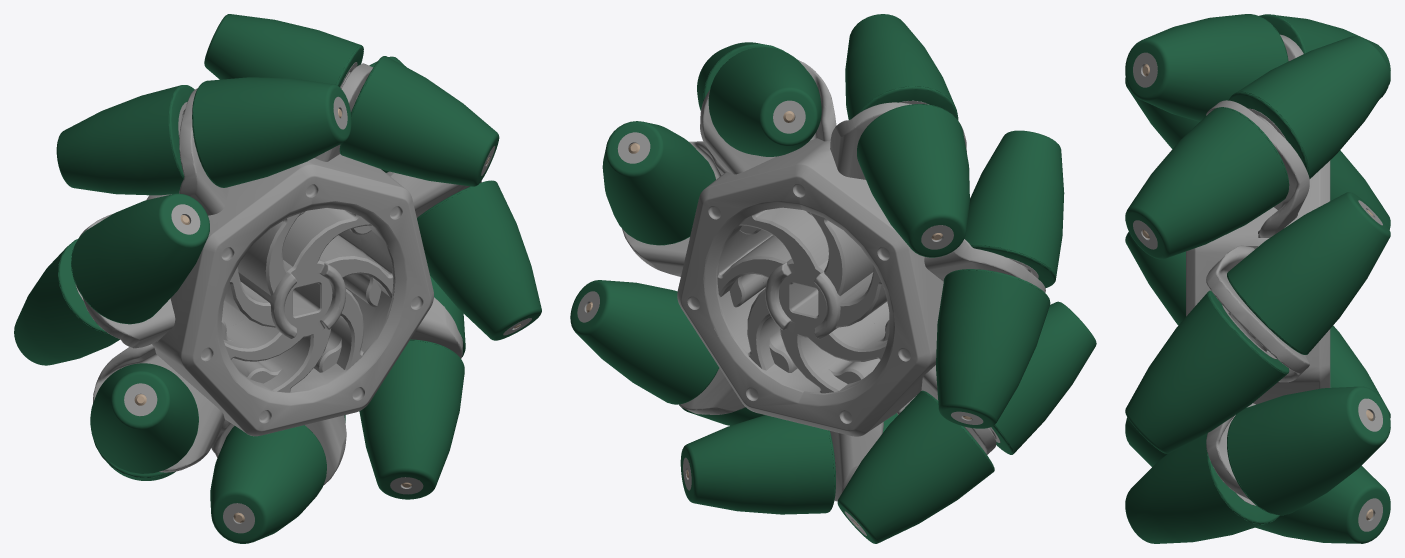
Rendered from 4 Mecanum Wheel (276-1447) .glb.
3 views of the same model, side by side, from view 1: azimuth 30°, elevation 25°; view 2: azimuth 150°, elevation 25°; view 3: azimuth 270°, elevation 25° (orthographic). The views are drawn at different scales.
Parts seen in each view (by area): view 1: 276-1447-002 Rev3, 276-1447-015 Rev1.004, 276-1447-015 Rev1.002, 276-1447-015 Rev1, 276-1447-015 Rev1.006, 276-1447-015 Rev1.012, 276-1447-015 Rev1.005, 276-1447-015 Rev1.010, 276-1447-015 Rev1.008, 276-1447-015 Rev1.003, 276-1447-015 Rev1.007, 276-1447-011 Rev1.004 (+11 smaller); view 2: 276-1447-001 Rev3, 276-1447-015 Rev1.007, 276-1447-015 Rev1.009, 276-1447-015 Rev1.011, 276-1447-015 Rev1.005, 276-1447-015 Rev1.013, 276-1447-015 Rev1.006, 276-1447-015 Rev1.001, 276-1447-015 Rev1.003, 276-1447-015 Rev1.004, 276-1447-015 Rev1.008, 276-1447-011 Rev1.001 (+10 smaller); view 3: 276-1447-015 Rev1.002, 276-1447-015 Rev1.001, 276-1447-015 Rev1.013, 276-1447-015 Rev1, 276-1447-015 Rev1.003, 276-1447-015 Rev1.004, 276-1447-015 Rev1.012, 276-1447-015 Rev1.011, 276-1447-011 Rev1, 276-1447-001 Rev3, 276-1447-011 Rev1.001, 276-1447-002 Rev3 (+11 smaller).
Boxes of the visible parts, x1,y1,x2,y2 form: 276-1447-002 Rev3: [152, 154, 433, 436]; 276-1447-015 Rev1.004: [192, 77, 351, 187]; 276-1447-015 Rev1.002: [339, 56, 499, 186]; 276-1447-015 Rev1: [417, 180, 541, 340]; 276-1447-015 Rev1.006: [71, 193, 209, 324]; 276-1447-015 Rev1.012: [359, 339, 464, 499]; 276-1447-015 Rev1.005: [56, 85, 194, 195]; 276-1447-015 Rev1.010: [210, 425, 326, 543]; 276-1447-015 Rev1.008: [90, 363, 198, 473]; 276-1447-015 Rev1.003: [204, 14, 363, 86]; 276-1447-015 Rev1.007: [14, 239, 119, 365]; 276-1447-011 Rev1.004: [93, 344, 225, 472]; 276-1447-001 Rev3: [677, 138, 943, 436]; 276-1447-015 Rev1.007: [936, 269, 1050, 428]; 276-1447-015 Rev1.009: [837, 390, 994, 543]; 276-1447-015 Rev1.011: [680, 415, 835, 514]; 276-1447-015 Rev1.005: [857, 104, 969, 257]; 276-1447-015 Rev1.013: [570, 280, 719, 404]; 276-1447-015 Rev1.006: [964, 130, 1064, 288]; 276-1447-015 Rev1.001: [602, 121, 715, 245]; 276-1447-015 Rev1.003: [708, 47, 821, 156]; 276-1447-015 Rev1.004: [845, 14, 958, 120]; 276-1447-015 Rev1.008: [991, 301, 1096, 454]; 276-1447-011 Rev1.001: [700, 60, 836, 174]; 276-1447-015 Rev1.002: [1125, 107, 1289, 259]; 276-1447-015 Rev1.001: [1227, 192, 1390, 354]; 276-1447-015 Rev1.013: [1227, 386, 1390, 515]; 276-1447-015 Rev1: [1125, 290, 1289, 453]; 276-1447-015 Rev1.003: [1228, 36, 1390, 178]; 276-1447-015 Rev1.004: [1125, 14, 1288, 121]; 276-1447-015 Rev1.012: [1125, 433, 1279, 543]; 276-1447-015 Rev1.011: [1255, 465, 1390, 543]; 276-1447-011 Rev1: [1206, 245, 1309, 382]; 276-1447-001 Rev3: [1253, 160, 1330, 404]; 276-1447-011 Rev1.001: [1206, 100, 1309, 237]; 276-1447-002 Rev3: [1186, 207, 1277, 316].
Size of the model in its own units: 0.1029 by 0.1028 by 0.0515.
